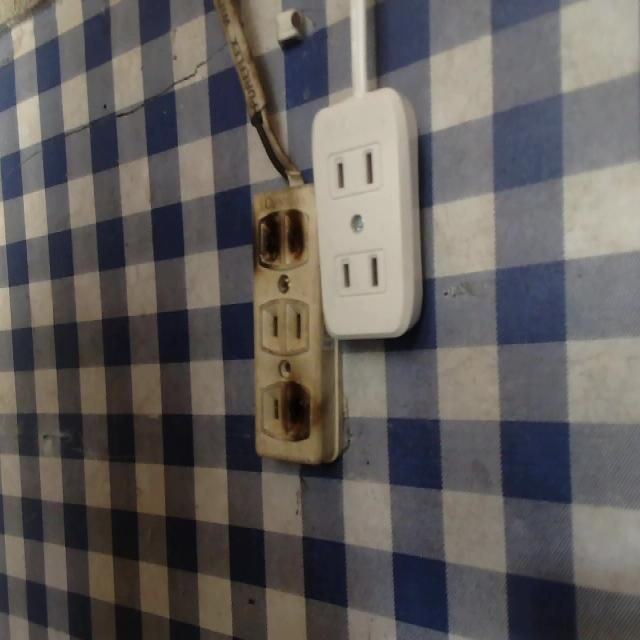-: (252, 208, 311, 275), (281, 379, 318, 444)
